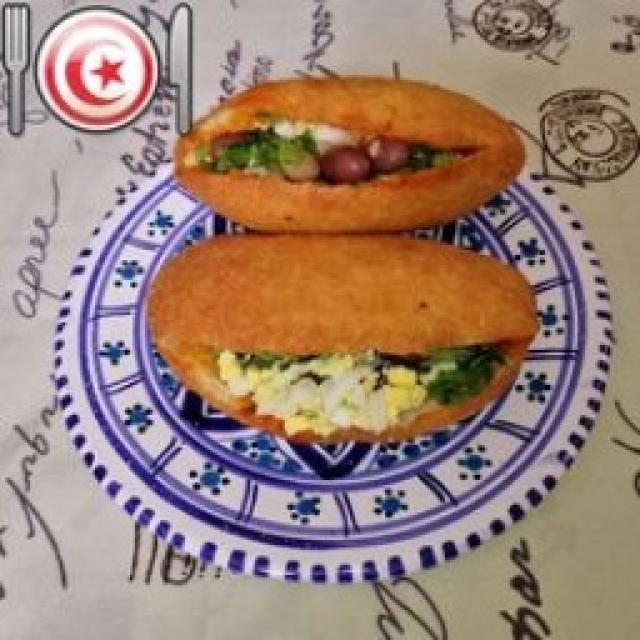Frecasse: (148, 75, 535, 445)
